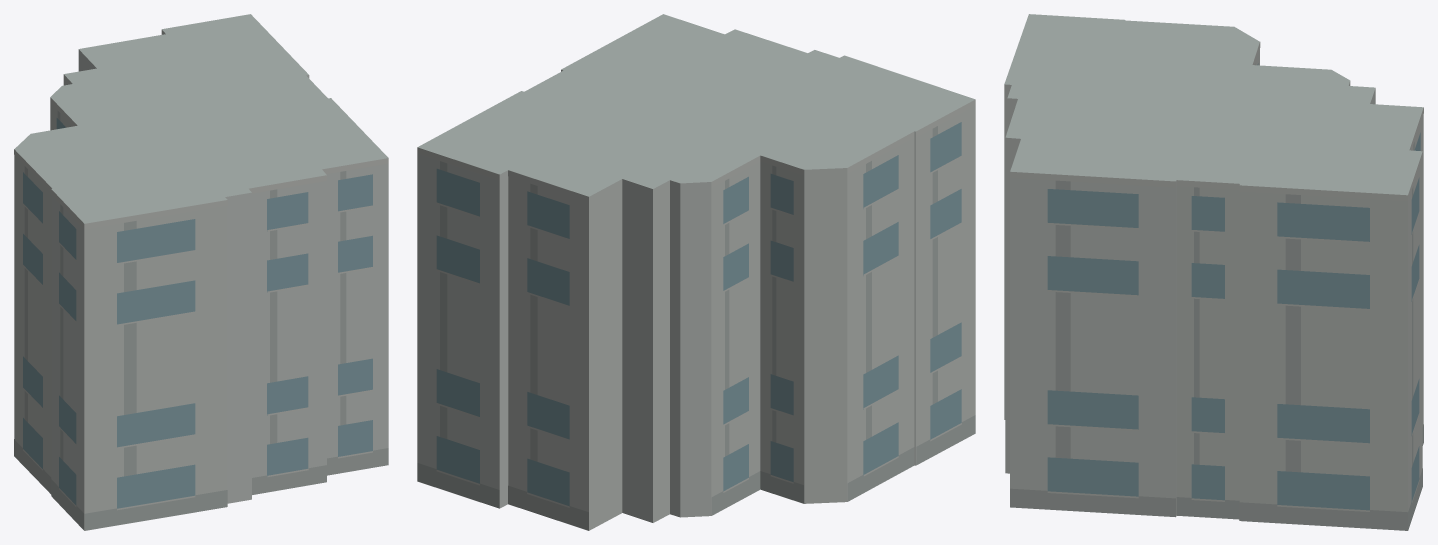
The model's file is survey-upis-32548707.glb.
The picture shows the model from 3 angles, left to right: view 1: azimuth 30°, elevation 25°; view 2: azimuth 150°, elevation 25°; view 3: azimuth 270°, elevation 25°; orthographic projection. The views are drawn at different scales.
Visible parts, largest first — view 1: survey-upis-32548707.tmp; view 2: survey-upis-32548707.tmp; view 3: survey-upis-32548707.tmp.
Boxes of the visible parts, x1=… form: survey-upis-32548707.tmp: x1=14, y1=14, x2=388, y2=530; survey-upis-32548707.tmp: x1=417, y1=14, x2=975, y2=530; survey-upis-32548707.tmp: x1=1004, y1=14, x2=1423, y2=530.
Size of the model in its own units: 15.41 by 13.3 by 15.08.
